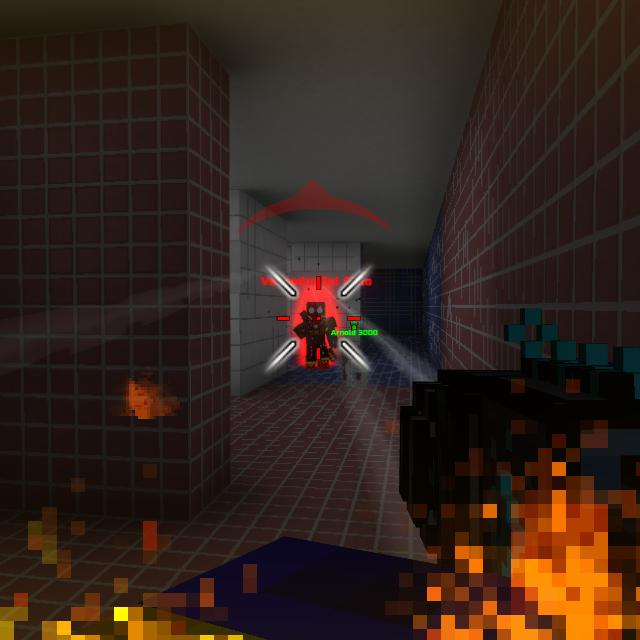Enemy: (293, 302, 339, 370)
